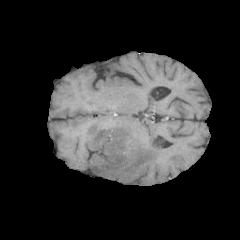glioma: (84, 122, 197, 177)
